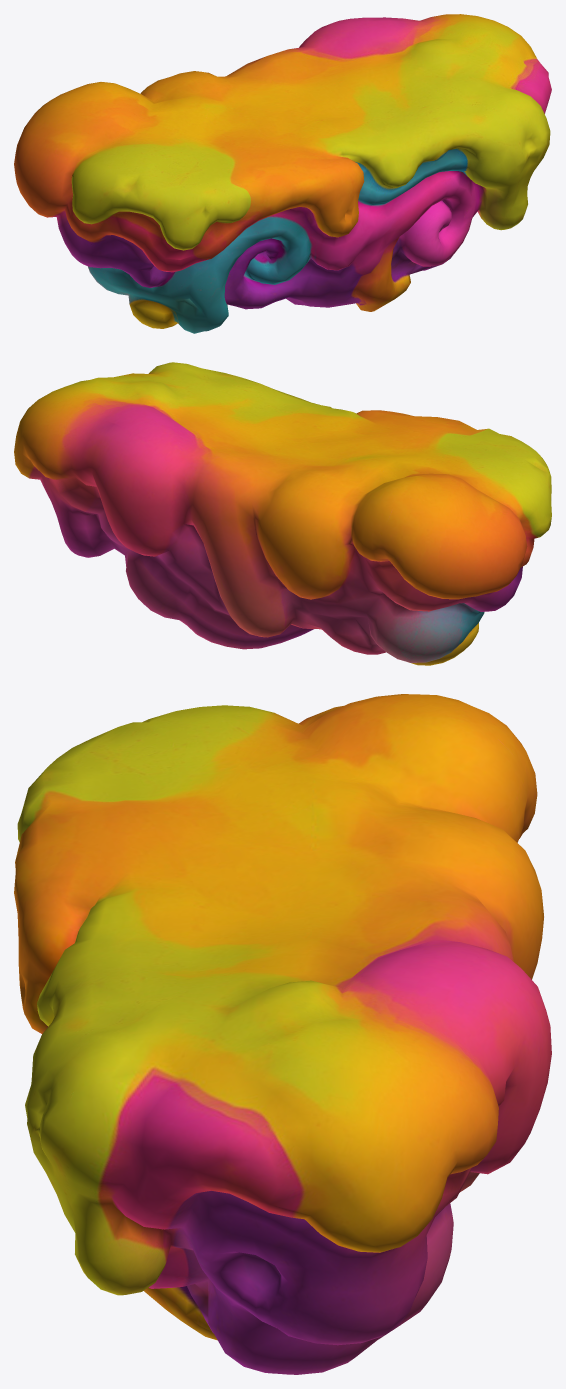
Rendered from dream-sculpture.glb.
The picture shows the model from 3 angles, top to bottom: view 1: azimuth 30°, elevation 25°; view 2: azimuth 150°, elevation 25°; view 3: azimuth 270°, elevation 25°; orthographic projection. The views are drawn at different scales.
Visible parts, largest first — view 1: tripo_node_57e8542e-ec57-4384-b116-12e7ce9a19d0; view 2: tripo_node_57e8542e-ec57-4384-b116-12e7ce9a19d0; view 3: tripo_node_57e8542e-ec57-4384-b116-12e7ce9a19d0.
Part boxes in pixels (x1=…): tripo_node_57e8542e-ec57-4384-b116-12e7ce9a19d0: x1=14, y1=14, x2=551, y2=333; tripo_node_57e8542e-ec57-4384-b116-12e7ce9a19d0: x1=14, y1=362, x2=551, y2=665; tripo_node_57e8542e-ec57-4384-b116-12e7ce9a19d0: x1=14, y1=694, x2=551, y2=1374.
Size of the model in its own units: 0.9995 by 0.439 by 0.5054.
Materials: 1 (1 with a texture image).
